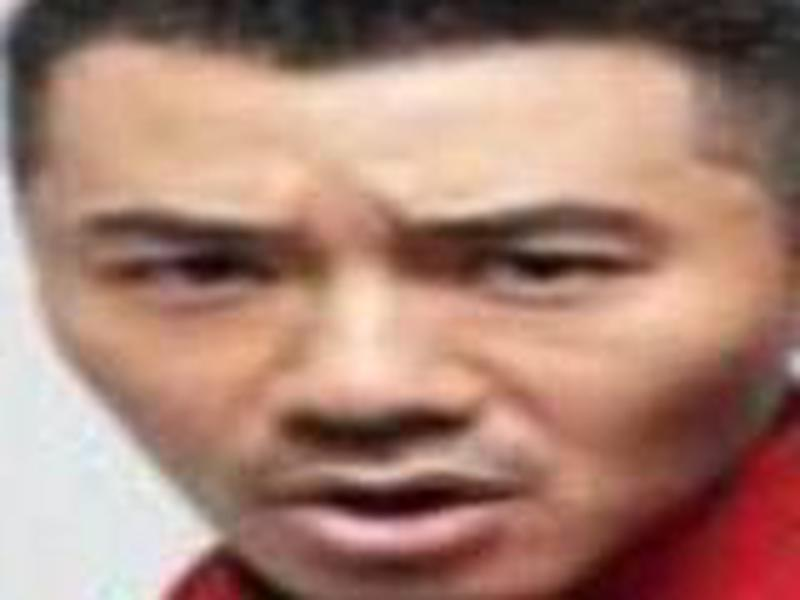without_mask: (29, 38, 763, 593)
